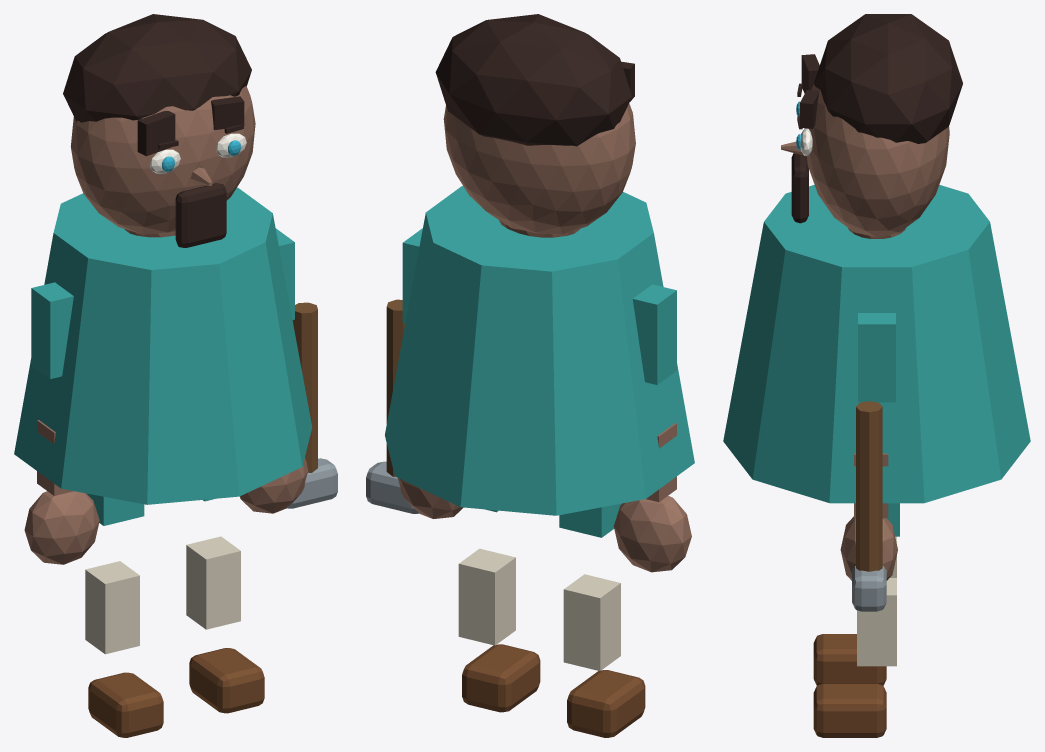
The model's file is orin.glb.
The picture shows the model from 3 angles, left to right: view 1: azimuth 30°, elevation 25°; view 2: azimuth 150°, elevation 25°; view 3: azimuth 270°, elevation 25°; orthographic projection. The views are drawn at different scales.
Visible parts, largest first — view 1: Tunic, HairCap, Head, ShinR, ShinL, HandL, BootR, BootL, UpperArmL, Beard, HammerGrip, HandR (+6 smaller); view 2: Tunic, HairCap, Head, ShinL, ShinR, HandL, BootR, BootL, UpperArmL, HammerGrip, HammerHead, ThighL (+3 smaller); view 3: Tunic, HairCap, Head, HammerGrip, BootR, UpperArmR, BootL, ShinR, HammerHead, HandR, Beard, HairFringeR (+1 smaller).
Part boxes in pixels (left/top/right/bottom): Tunic: left=14, top=187, right=312, bottom=504; HairCap: left=63, top=14, right=251, bottom=122; Head: left=70, top=86, right=255, bottom=234; ShinR: left=186, top=536, right=240, bottom=629; ShinL: left=85, top=561, right=139, bottom=654; HandL: left=24, top=491, right=99, bottom=564; BootR: left=189, top=648, right=264, bottom=713; BootL: left=88, top=672, right=163, bottom=737; UpperArmL: left=31, top=282, right=73, bottom=378; Beard: left=175, top=183, right=226, bottom=247; HammerGrip: left=292, top=302, right=317, bottom=472; HandR: left=240, top=458, right=308, bottom=513; Tunic: left=385, top=186, right=694, bottom=515; HairCap: left=435, top=14, right=631, bottom=146; Head: left=443, top=103, right=635, bottom=234; ShinL: left=563, top=574, right=620, bottom=670; ShinR: left=458, top=548, right=515, bottom=645; HandL: left=613, top=496, right=691, bottom=572; BootR: left=462, top=644, right=540, bottom=712; BootL: left=567, top=670, right=645, bottom=737; UpperArmL: left=632, top=284, right=676, bottom=384; HammerGrip: left=386, top=299, right=405, bottom=476; HammerHead: left=366, top=461, right=419, bottom=513; ThighL: left=559, top=503, right=621, bottom=537; Tunic: left=723, top=185, right=1030, bottom=503; HairCap: left=814, top=14, right=962, bottom=143; Head: left=805, top=84, right=949, bottom=237; HammerGrip: left=856, top=401, right=882, bottom=571; BootR: left=813, top=683, right=886, bottom=737; UpperArmR: left=858, top=313, right=895, bottom=402; BootL: left=813, top=634, right=886, bottom=685; ShinR: left=857, top=578, right=896, bottom=666; HammerHead: left=852, top=566, right=886, bottom=611; HandR: left=840, top=516, right=897, bottom=580; Beard: left=791, top=153, right=808, bottom=223; HairFringeR: left=800, top=90, right=818, bottom=128.
Size of the model in its own units: 0.9246 by 1.96 by 0.8024.
